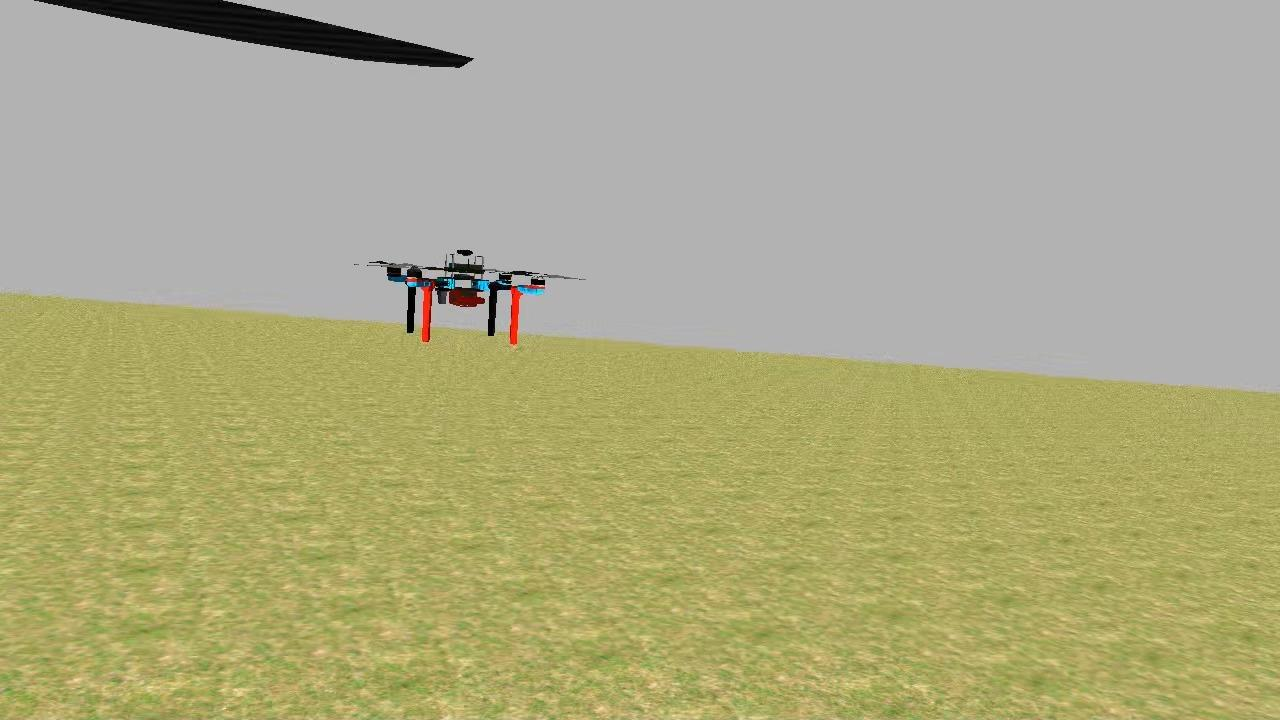UAV: (380, 244, 552, 350)
